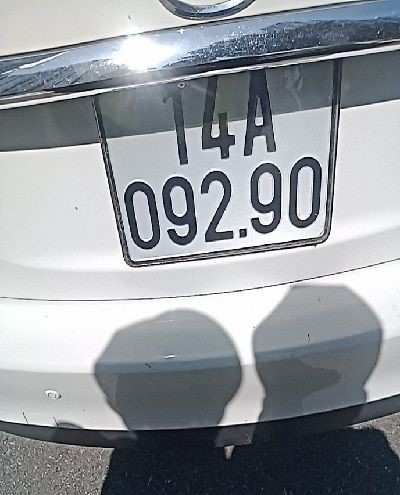number_plate: (73, 43, 373, 276)
